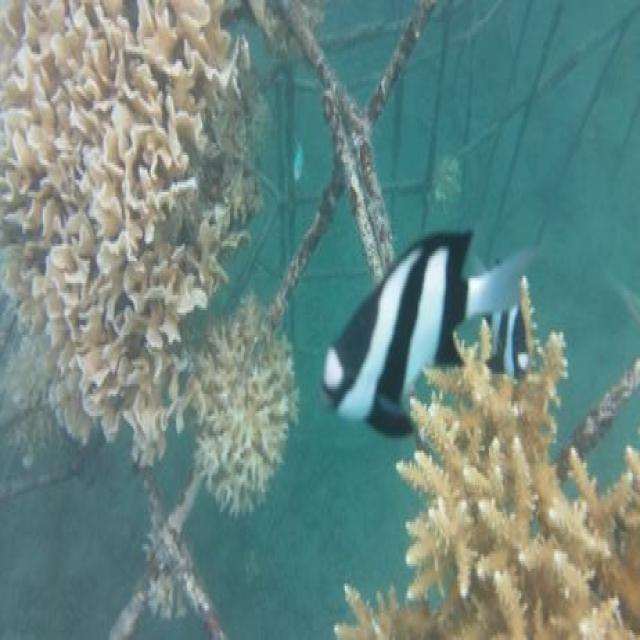ThreeStripedDamselfish: (321, 231, 522, 441)
